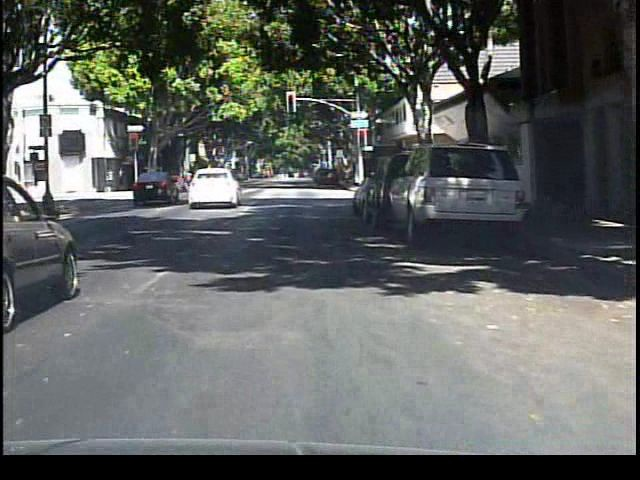person: (175, 163, 201, 202)
